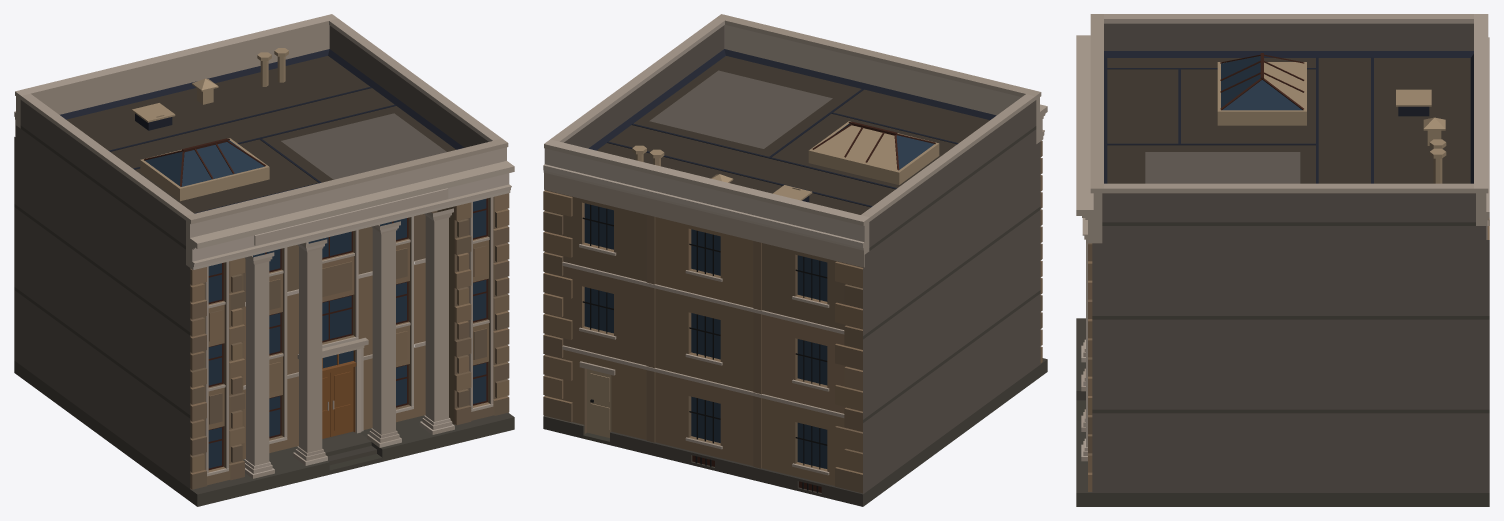
The model's file is bank.glb.
3 views of the same model, side by side, from view 1: azimuth 30°, elevation 25°; view 2: azimuth 150°, elevation 25°; view 3: azimuth 270°, elevation 25° (orthographic). The views are drawn at different scales.
Visible parts, largest first — view 1: bank-body, door-r-leaf, door-l-leaf; view 2: bank-body; view 3: bank-body, roof-hatch-lid.
Part boxes in pixels (x1,y1,x2,y2): bank-body: (14, 14, 514, 506); door-r-leaf: (330, 367, 353, 436); door-l-leaf: (322, 373, 330, 438); bank-body: (543, 14, 1047, 506); bank-body: (1076, 14, 1489, 506); roof-hatch-lid: (1396, 89, 1431, 106).
Bounding box in the file's own units: 12 × 10.2 × 12.
